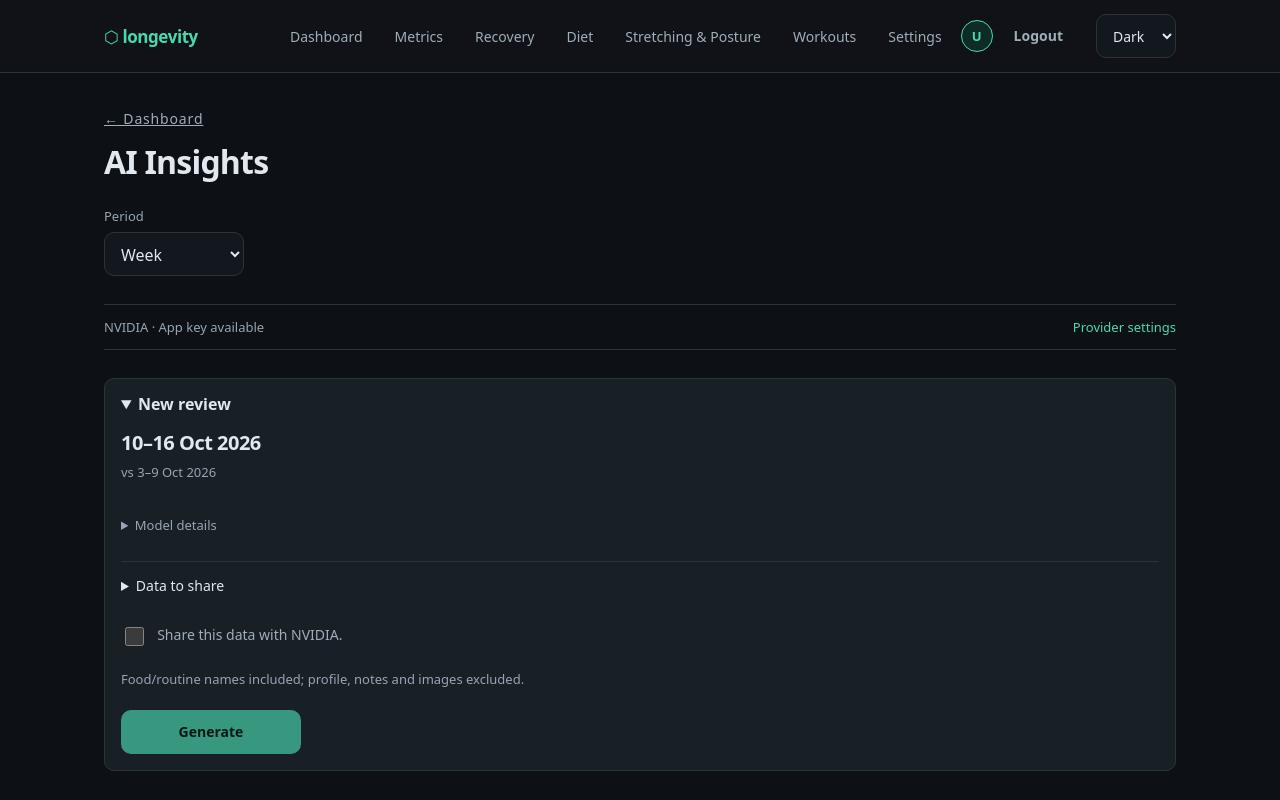
keeps personal-key setup optional when an app key is available
expect the text "NVIDIA · App key available" is shown: met, box x1=104 y1=318 x2=264 y2=336
Click the checkbox: click(135, 636) x1=125 y1=627 x2=144 y2=646
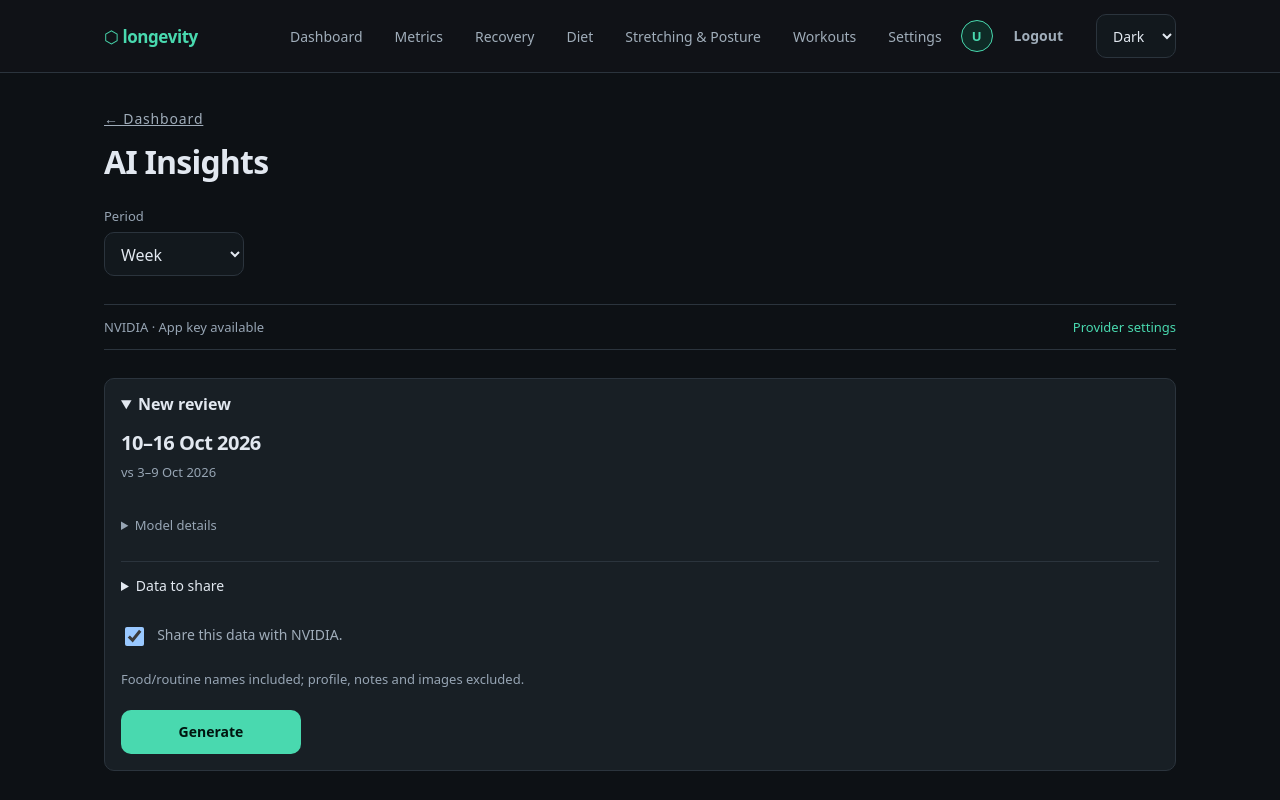
Click the button with aria-label "Generate suggestions": click(211, 732) x1=121 y1=710 x2=301 y2=754
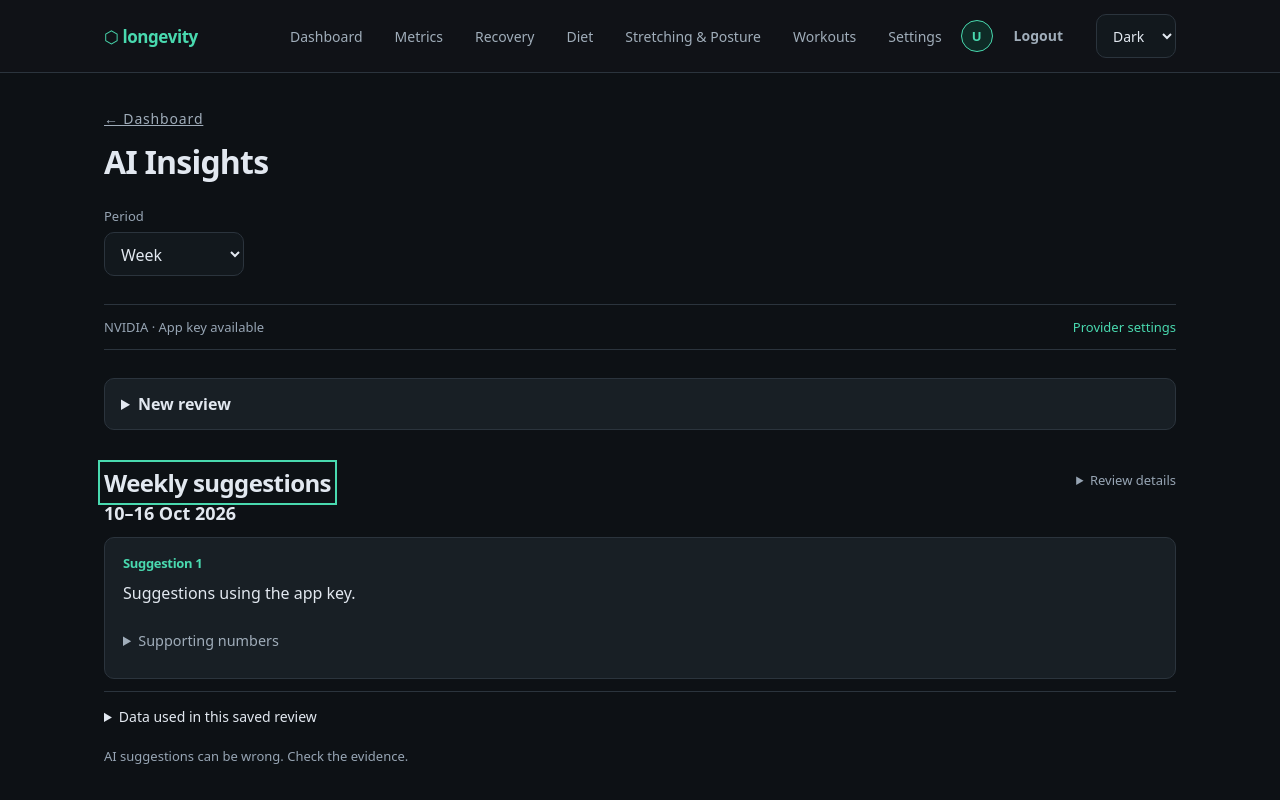
expect the text "Suggestions using the app key." is shown: met, box x1=123 y1=582 x2=356 y2=604
